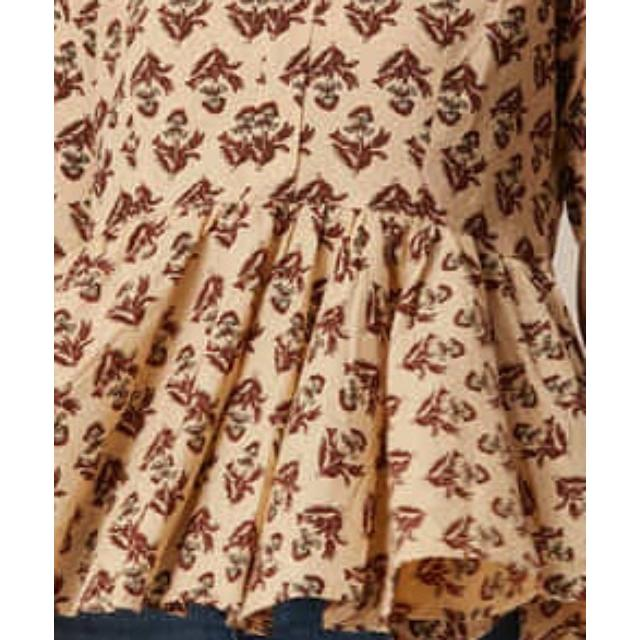cotton: (71, 0, 542, 550)
